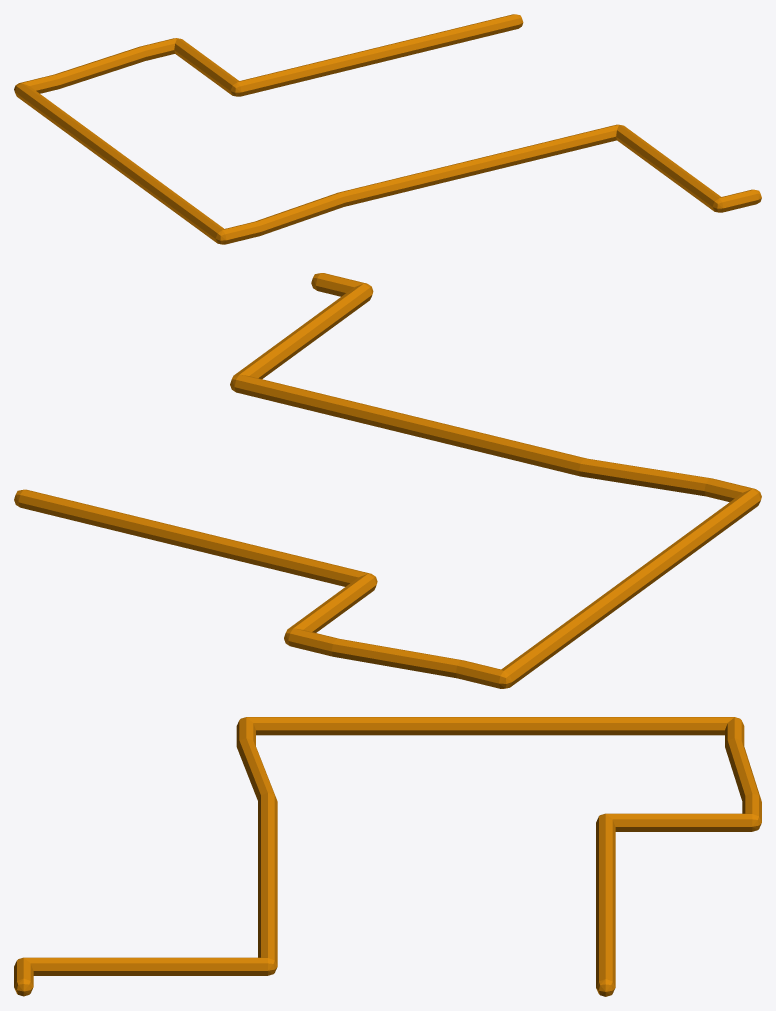
The picture shows the model from 3 angles, top to bottom: view 1: azimuth 30°, elevation 25°; view 2: azimuth 150°, elevation 25°; view 3: azimuth 270°, elevation 25°; orthographic projection. The views are drawn at different scales.
Size of the model in its own units: 654 by 20 by 766.
